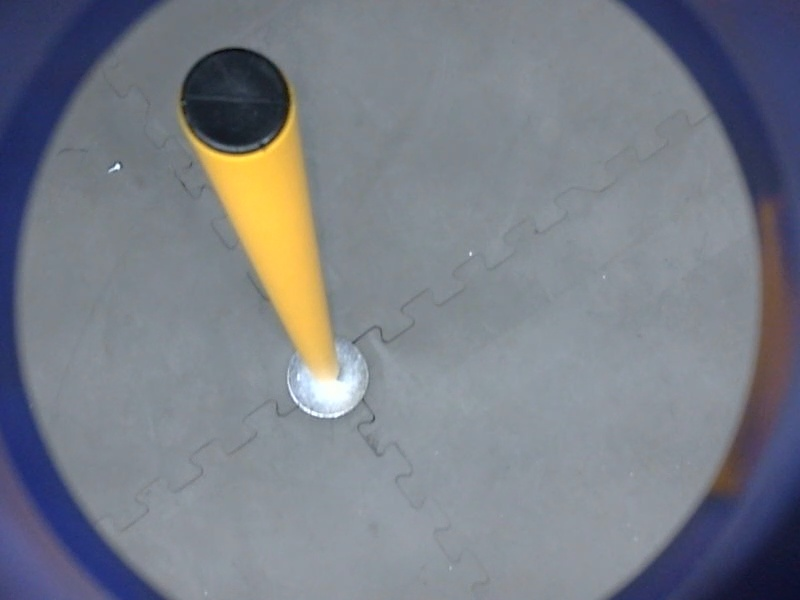tip: (171, 42, 302, 166)
